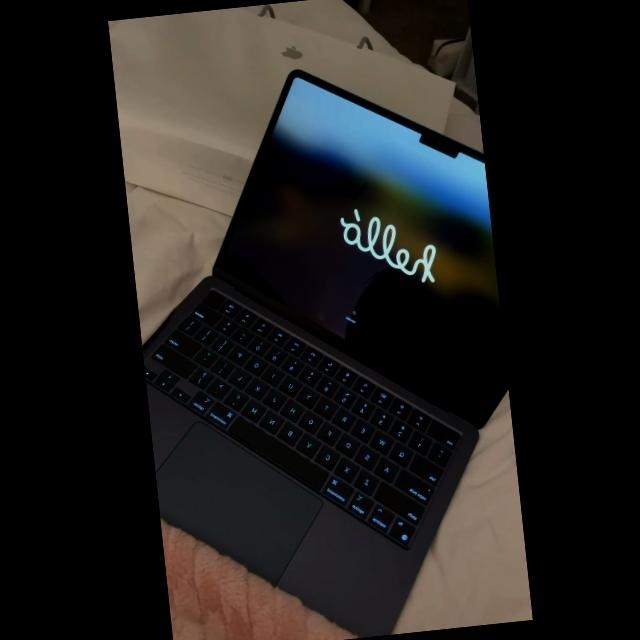laptop: (142, 69, 508, 637)
